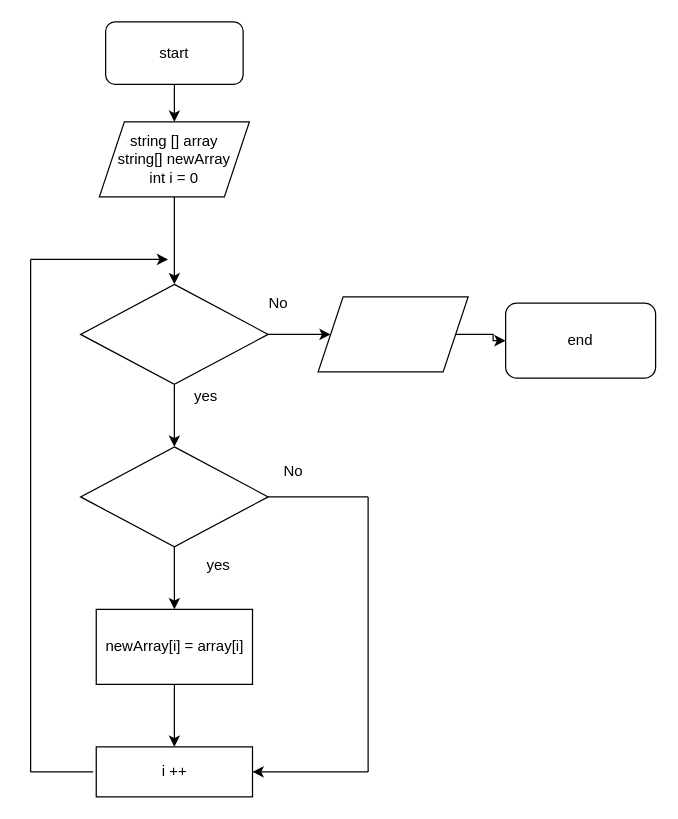
This 678x819 diagram has some shape labels left out. The shapes that lost their labels are listed below. From the top down, each one's centre as x and y in pixels, then its label:
point 173,333: i <= array.length
point 392,334: string[]newArray
point 173,496: array[i].length <= 3
